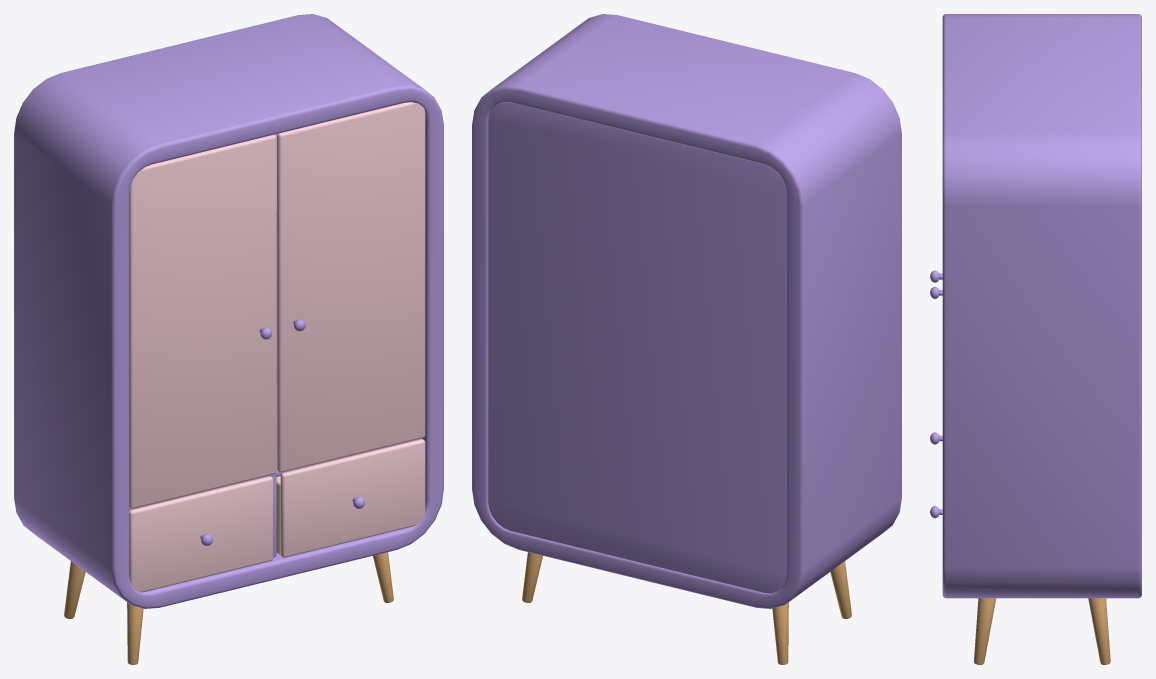
The model's file is guarda_roupa_retro_lilas.glb.
3 views of the same model, side by side, from view 1: azimuth 30°, elevation 25°; view 2: azimuth 150°, elevation 25°; view 3: azimuth 270°, elevation 25° (orthographic).
Parts seen in each view (by area): view 1: guarda_roupa_retro_lilas, porta_2, porta_1, gaveta_2, gaveta_1; view 2: guarda_roupa_retro_lilas; view 3: guarda_roupa_retro_lilas.
Part boxes in pixels (<box>): guarda_roupa_retro_lilas: <box>14,14,443,664</box>; porta_2: <box>277,102,425,472</box>; porta_1: <box>129,134,276,508</box>; gaveta_2: <box>276,439,425,557</box>; gaveta_1: <box>129,476,273,592</box>; guarda_roupa_retro_lilas: <box>472,14,901,664</box>; guarda_roupa_retro_lilas: <box>942,14,1141,664</box>.
Size of the model in its own units: 1.05 by 1.6 by 0.5846.
1 material, 1 textured.
